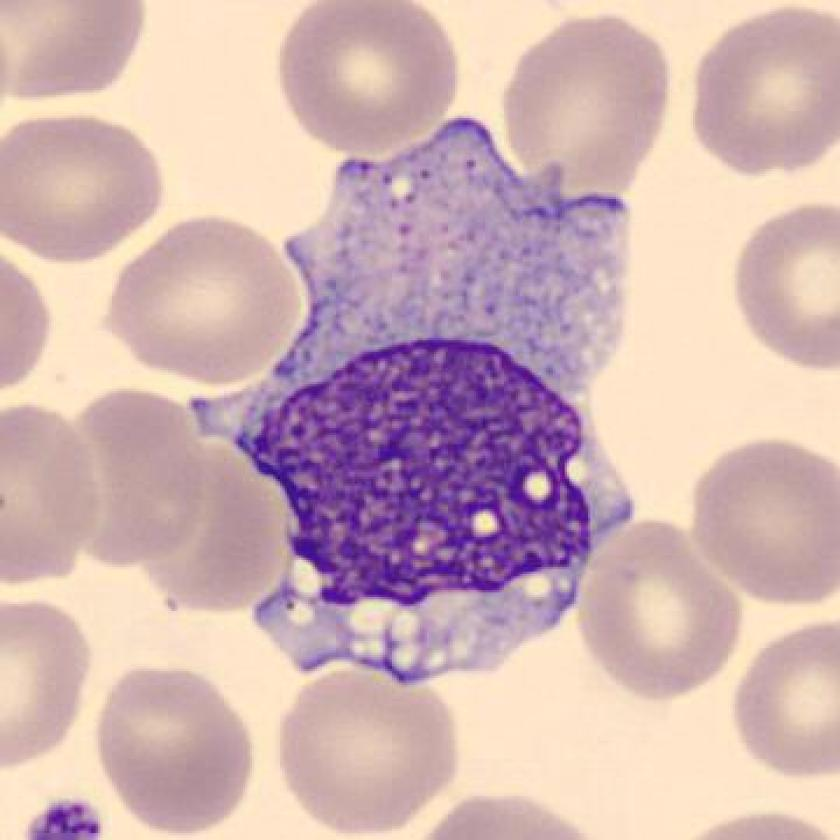monocyte: (171, 94, 659, 702)
